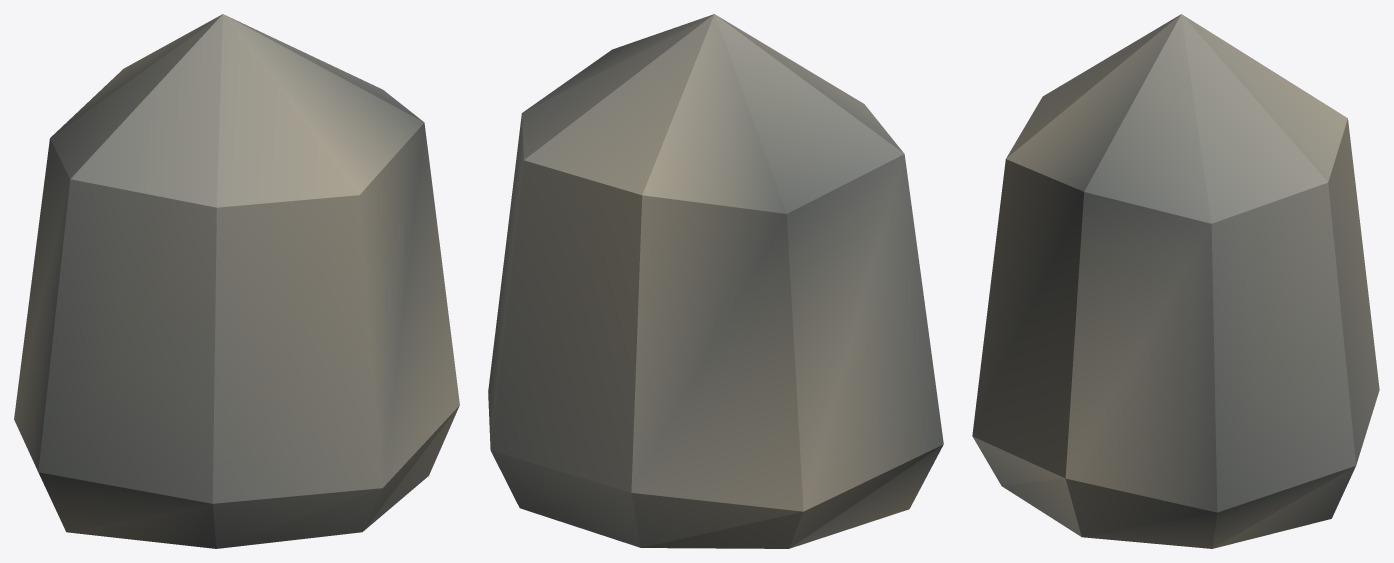
Rendered from ENV_Rock_Path_LOD0.glb.
3 views of the same model, side by side, from view 1: azimuth 30°, elevation 25°; view 2: azimuth 150°, elevation 25°; view 3: azimuth 270°, elevation 25° (orthographic). The views are drawn at different scales.
Parts seen in each view (by area): view 1: ENV_Rock_Path_LOD0_rock; view 2: ENV_Rock_Path_LOD0_rock; view 3: ENV_Rock_Path_LOD0_rock.
Boxes of the visible parts, x1,y1,x2,y2 form: ENV_Rock_Path_LOD0_rock: (14, 14, 459, 548); ENV_Rock_Path_LOD0_rock: (488, 14, 943, 548); ENV_Rock_Path_LOD0_rock: (972, 14, 1379, 548).
Size of the model in its own units: 0.9336 by 1 by 0.8208.
